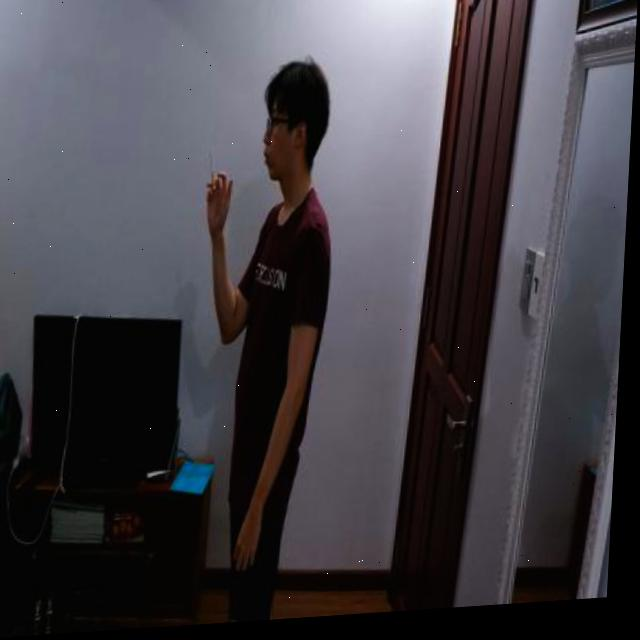cigarette: (208, 147, 219, 190)
